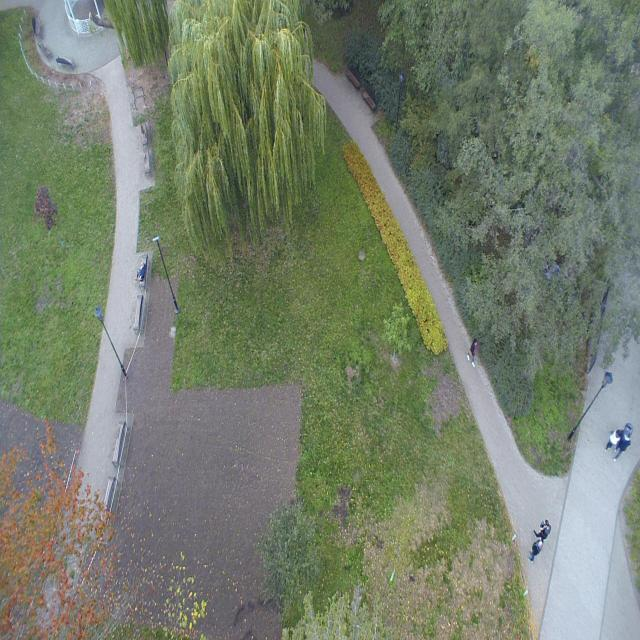p3rson: (533, 519, 552, 545), (614, 432, 630, 460), (605, 428, 621, 451), (467, 339, 478, 369), (528, 540, 542, 561), (135, 262, 146, 282)
